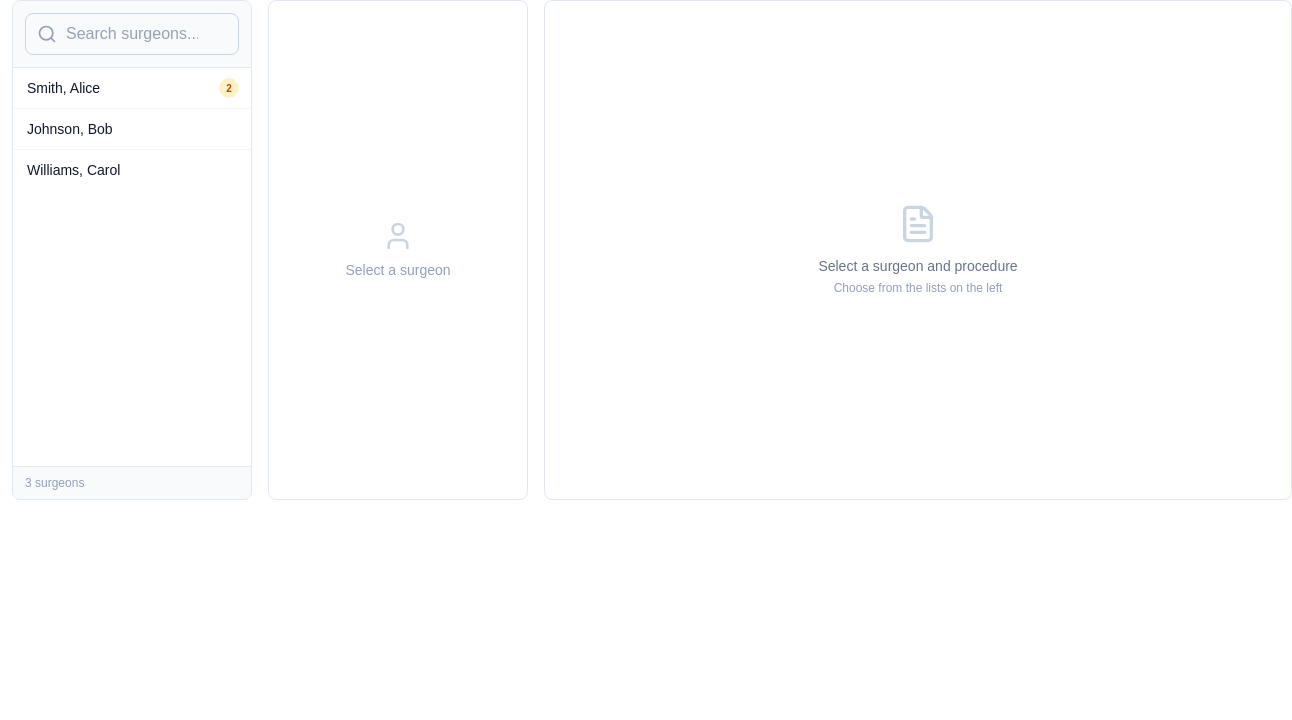
Test: SurgeonOverridePanel › procedure selection — column 3 detail › shows template detail when surgeon + procedure selected
The width and height of the screenshot is (1292, 720).
Click the text "Smith, Alice".
click(64, 88)  # box [27,78,100,98]
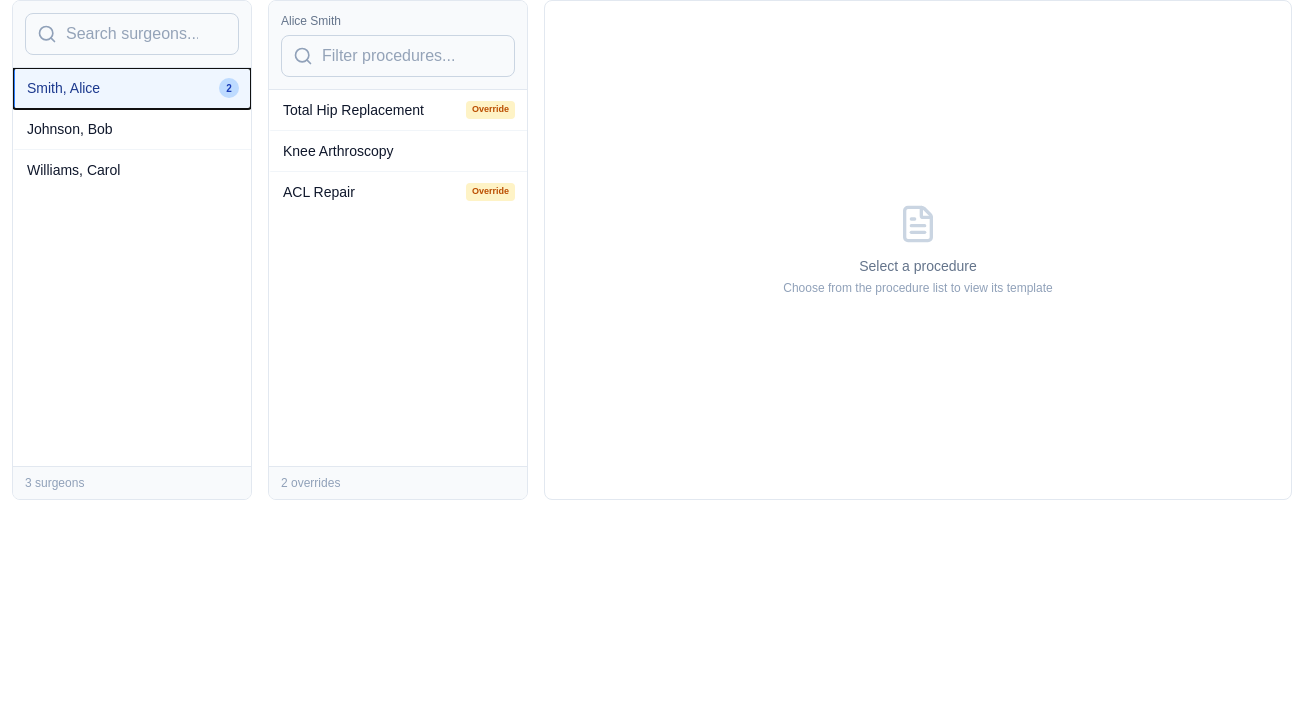
Click the text "Total Hip Replacement".
click(353, 110)  # box [283,100,424,120]
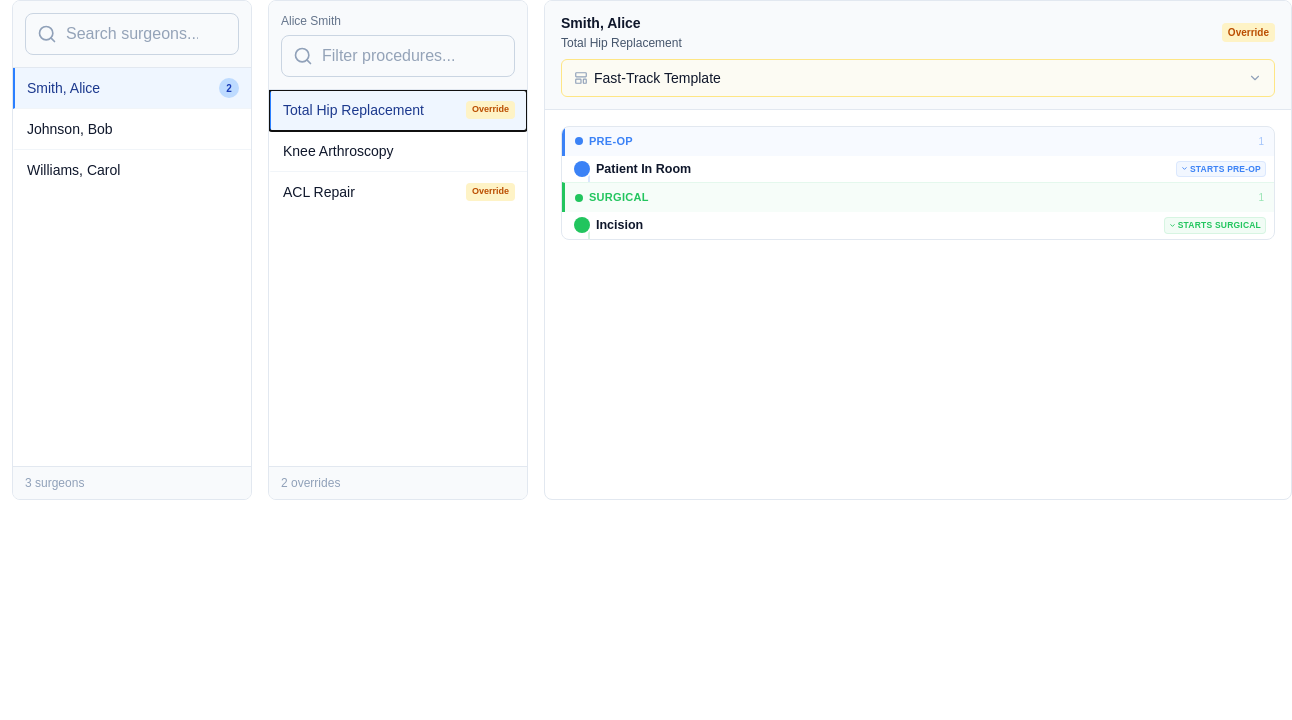
Expected: the heading "Smith, Alice" is shown, [561,15,641,31]
Expected: the 1st text "Total Hip Replacement" is shown, [561,35,682,51]
